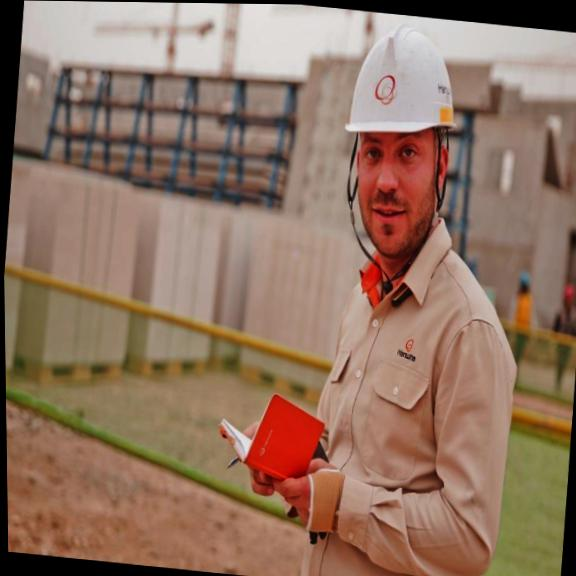no_safety_vest: (285, 217, 517, 576)
